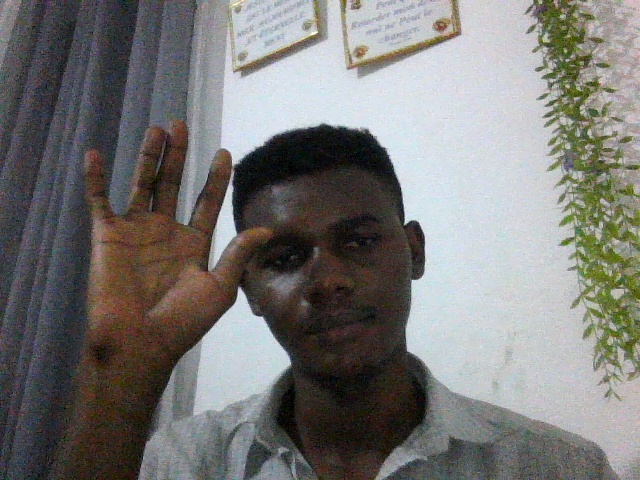hand: (68, 118, 271, 387)
